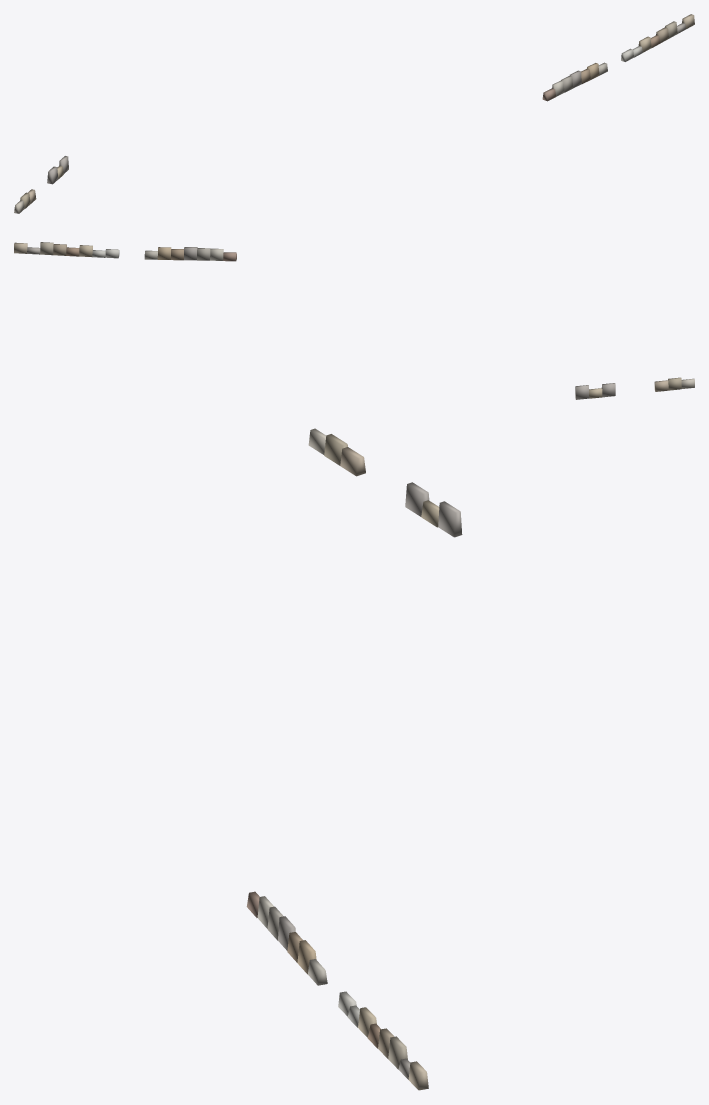
Rendered from farm_-8_-12_collision.glb.
The picture shows the model from 3 angles, top to bottom: view 1: azimuth 30°, elevation 25°; view 2: azimuth 150°, elevation 25°; view 3: azimuth 270°, elevation 25°; orthographic projection. The views are drawn at different scales.
Parts seen in each view (by area): view 1: geometry_0; view 2: geometry_0; view 3: geometry_0.
Boxes of the visible parts, x1,y1,x2,y2 form: geometry_0: (14, 14, 694, 213); geometry_0: (14, 242, 694, 399); geometry_0: (246, 428, 462, 1090).
Bounding box in the file's own units: 88.47 × 2.05 × 12.61.
